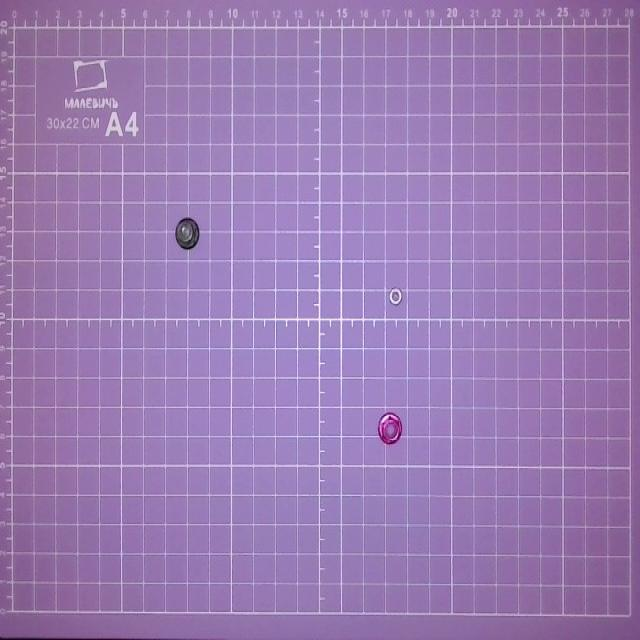screw_M3: (387, 283, 405, 309)
screw_M5: (376, 408, 406, 450), (172, 219, 202, 251)
